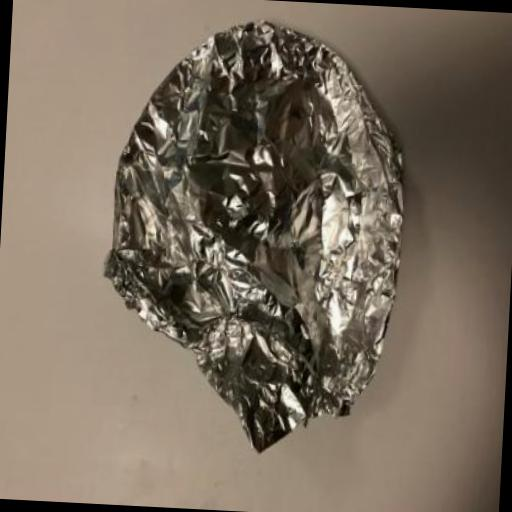metal: (93, 10, 414, 463)
